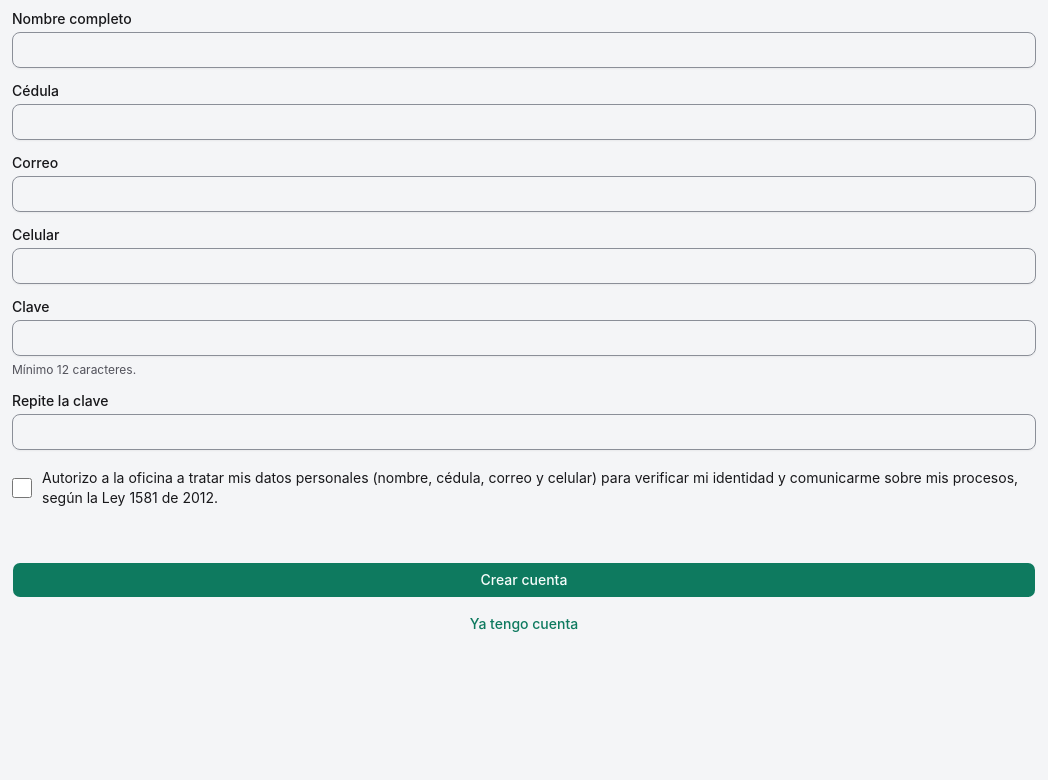
Test: RegistroForm › sends the data with the consent and shows the generic success message
Type "Prueba Smoke" into the field with id "nombre-completo" at (524,50), box [12, 32, 1036, 68]
Type "1000000000" into the field labelled "Cédula" at (524,122), box [12, 104, 1036, 140]
Type "prueba@example.com" into the field labelled "Correo" at (524,194), box [12, 176, 1036, 212]
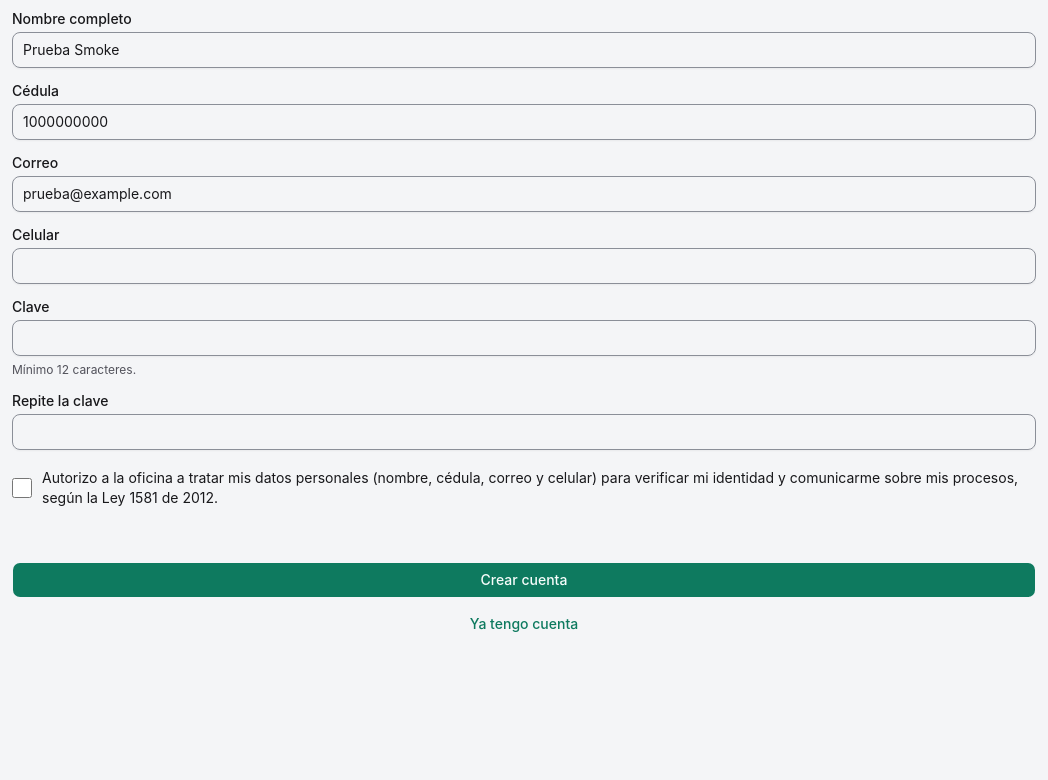
Type "3001234567" into the field labelled "Celular" at (524,266), box [12, 248, 1036, 284]
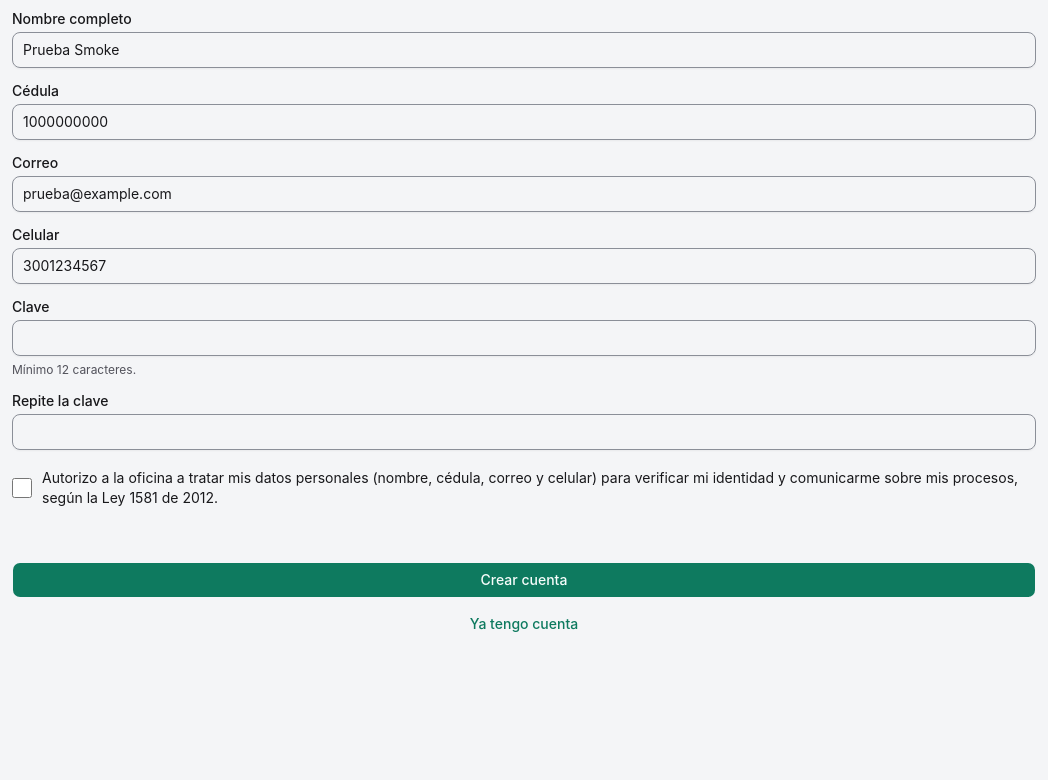
Type "clave-de-prueba-larga" into the password field labelled "Clave" at (524,338), box [12, 320, 1036, 356]
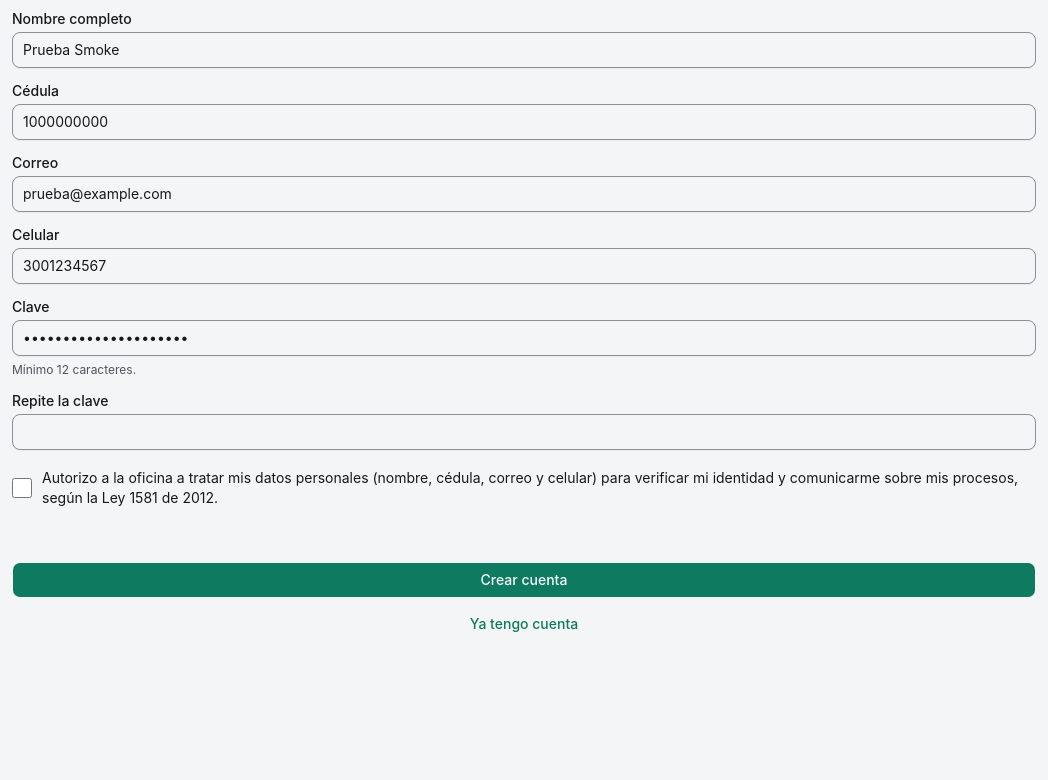
Type "clave-de-prueba-larga" into the password field with id "confirmar-clave" at (524,432), box [12, 414, 1036, 450]
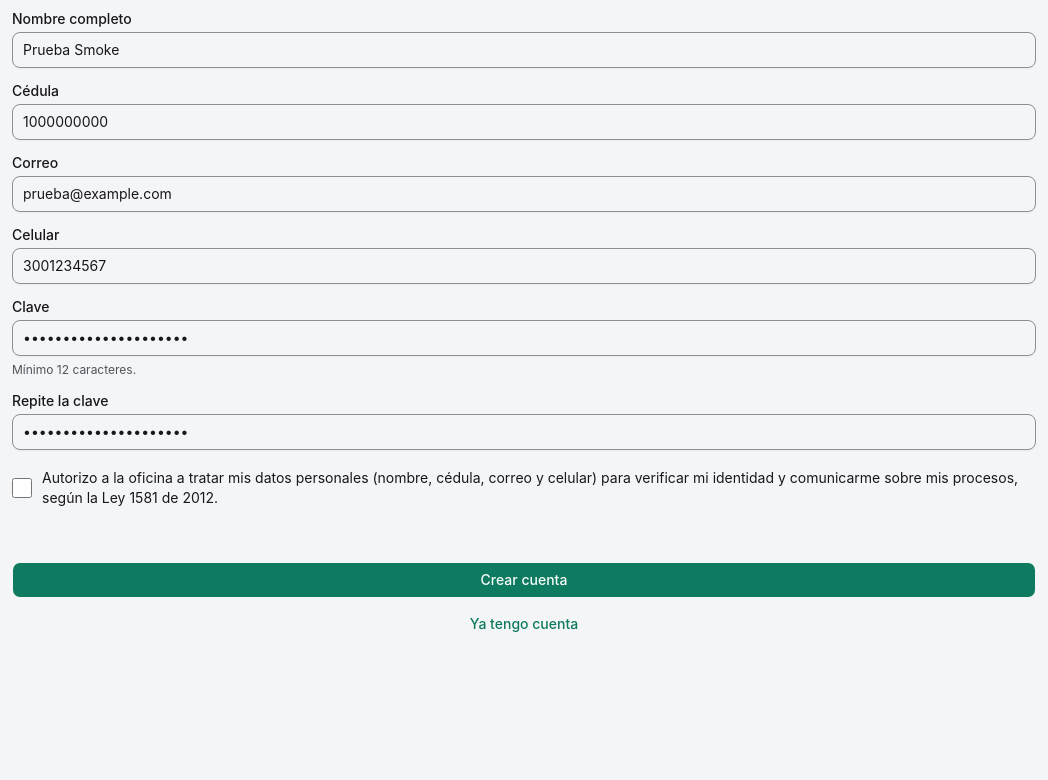
Click the checkbox at (22,488), box [12, 478, 32, 498]
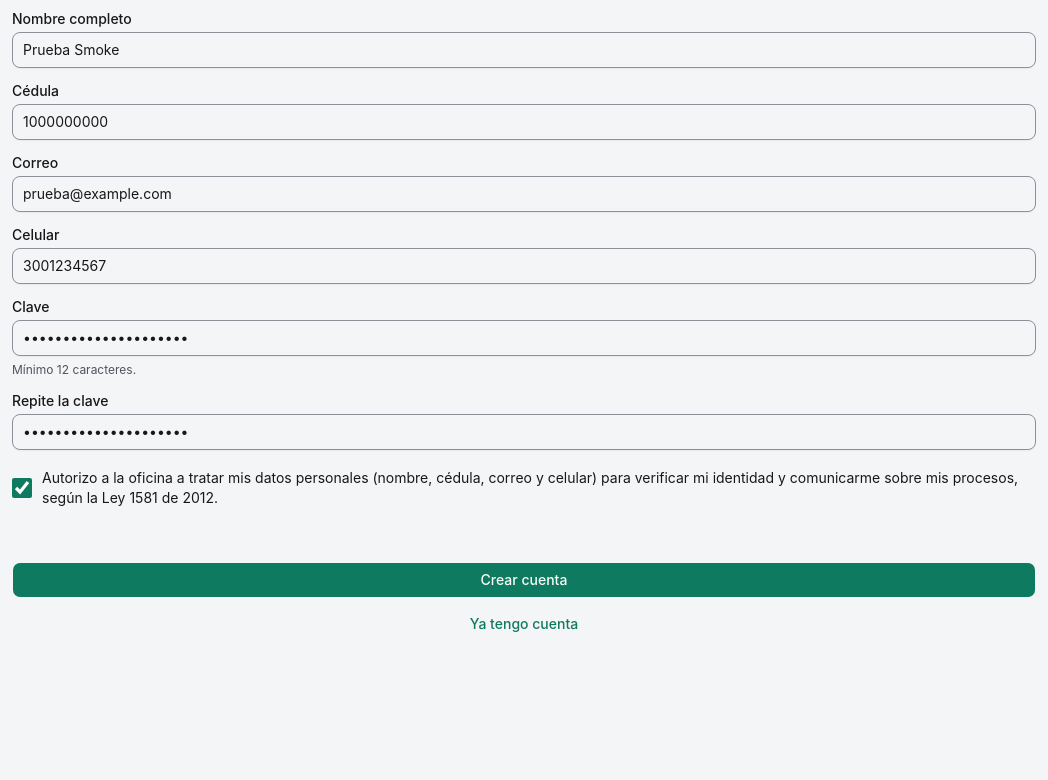
Click the button "Crear cuenta" at (524,580), box [12, 562, 1036, 598]
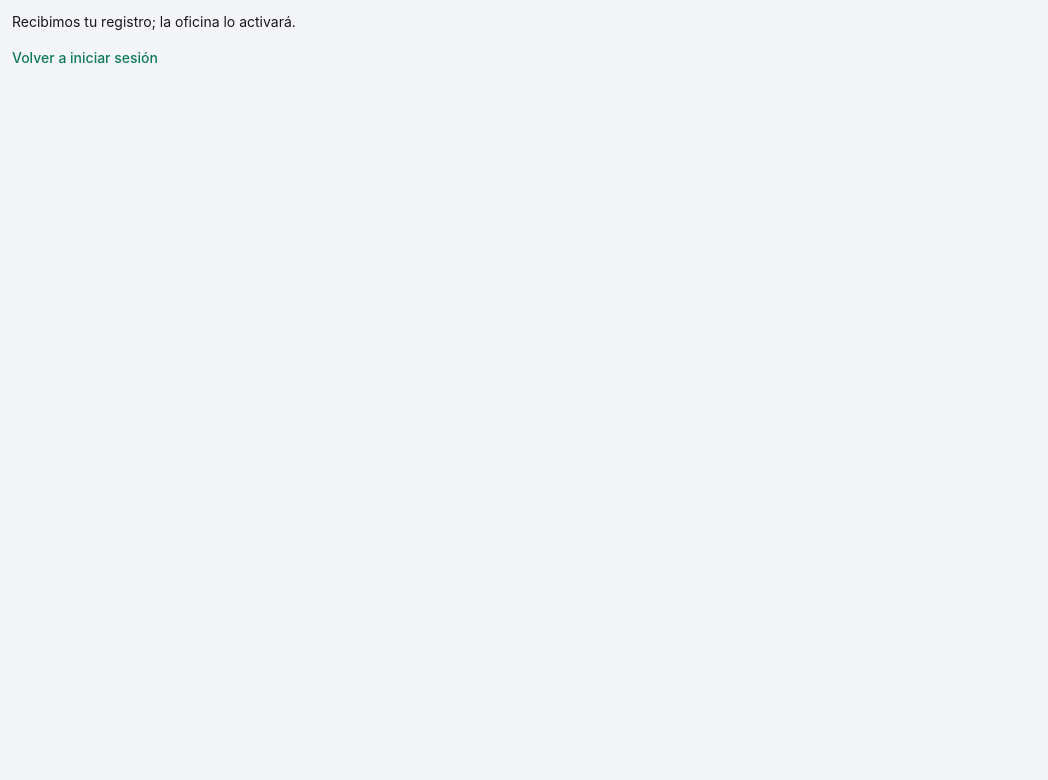
Expected: the message reads "Recibimos tu registro; la oficina lo activará.", [12, 13, 296, 30]
